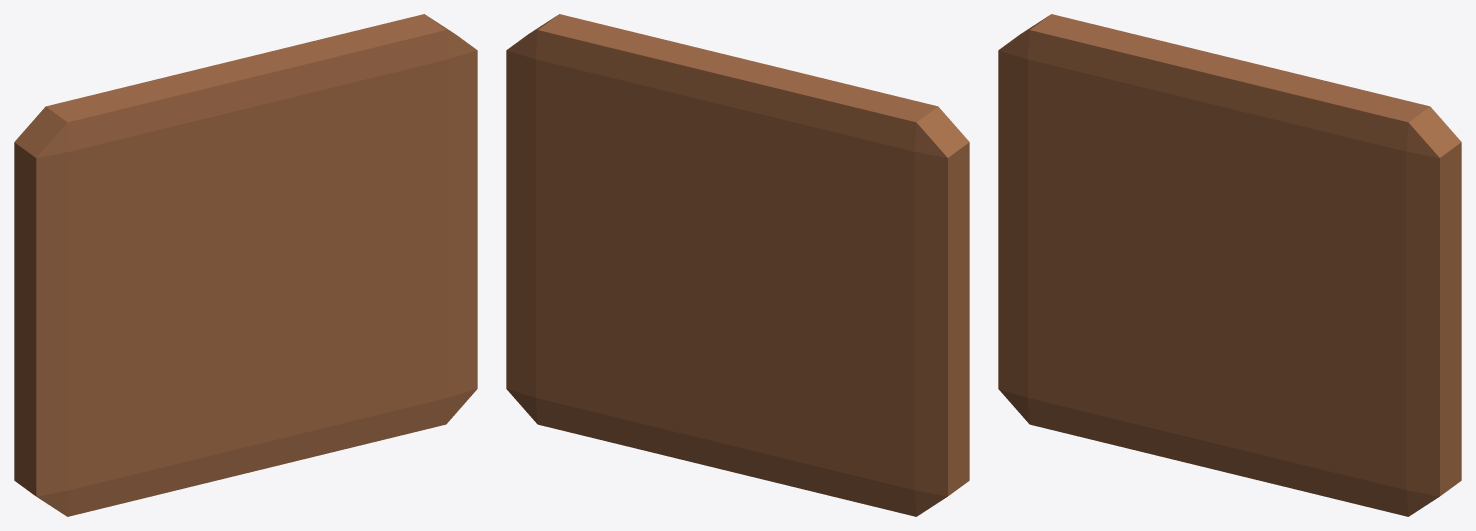
Rendered from signboard_beige.fbx.
The picture shows the model from 3 angles, left to right: view 1: azimuth 30°, elevation 25°; view 2: azimuth 150°, elevation 25°; view 3: azimuth 330°, elevation 25°; orthographic projection.
Parts seen in each view (by area): view 1: signboard_beige; view 2: signboard_beige; view 3: signboard_beige.
Boxes of the visible parts, x1=… form: signboard_beige: x1=14, y1=14, x2=477, y2=516; signboard_beige: x1=506, y1=14, x2=969, y2=516; signboard_beige: x1=998, y1=14, x2=1461, y2=516.
Size of the model in its own units: 59.84 by 51.1 by 5.98.
